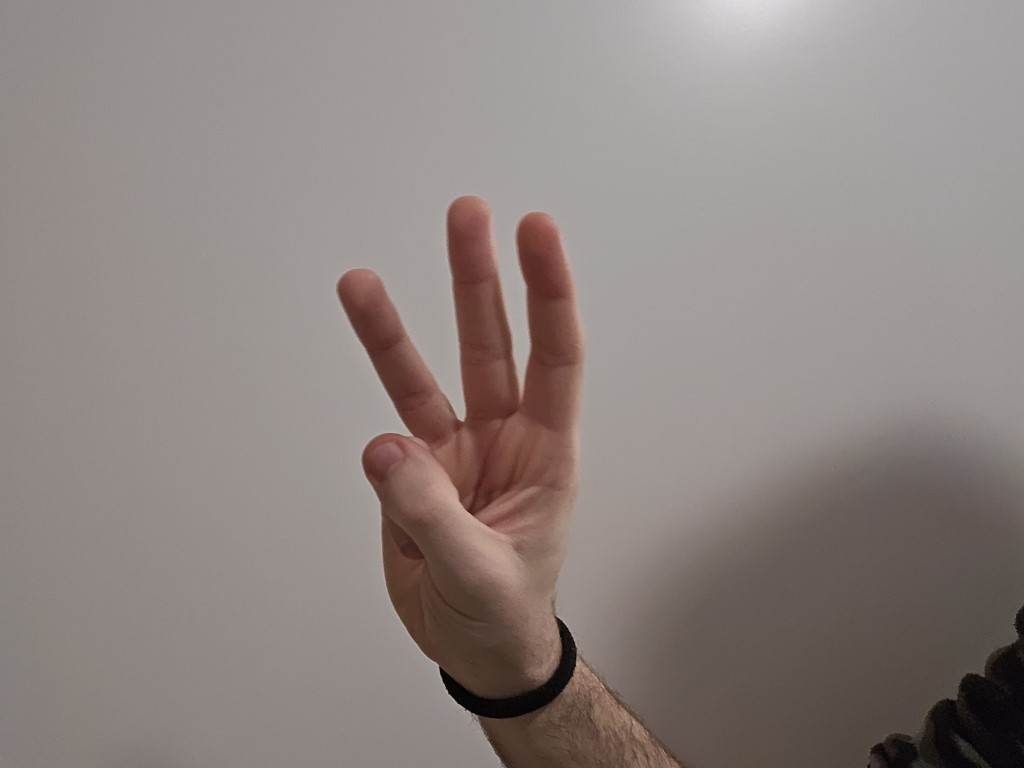w: (305, 178, 608, 671)
